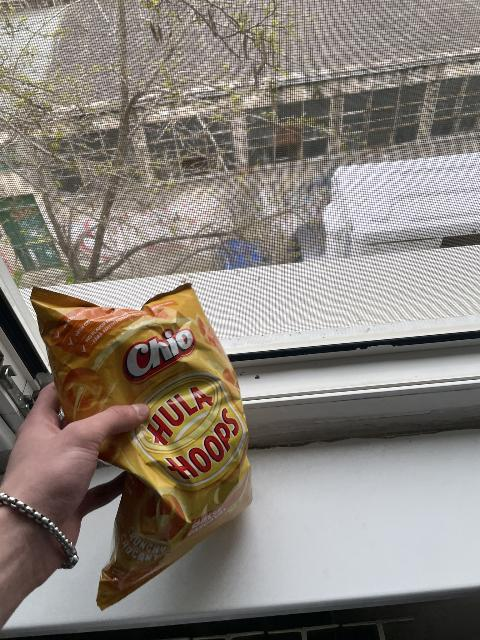Chio Hula Hoops Cheese 70g: (29, 290, 257, 612)
